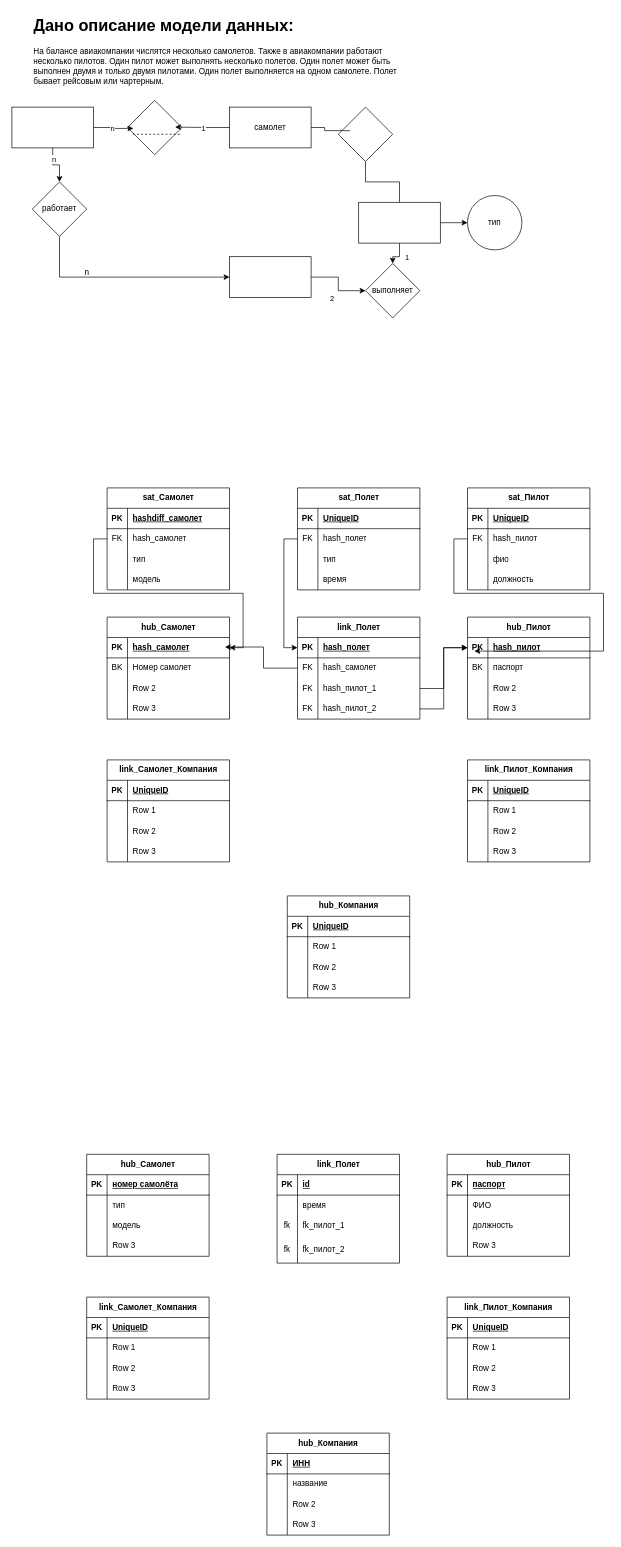
This 621x1547 diagram has some shape labels left out. The shapes that lost their labels are listed below. From the top down, each one's centre as x and y in pixels, then its label:
the point at 52,127: авиакомпания
the point at 154,127: числится
the point at 365,134: существляется на
the point at 399,222: полет
the point at 270,277: пилот
